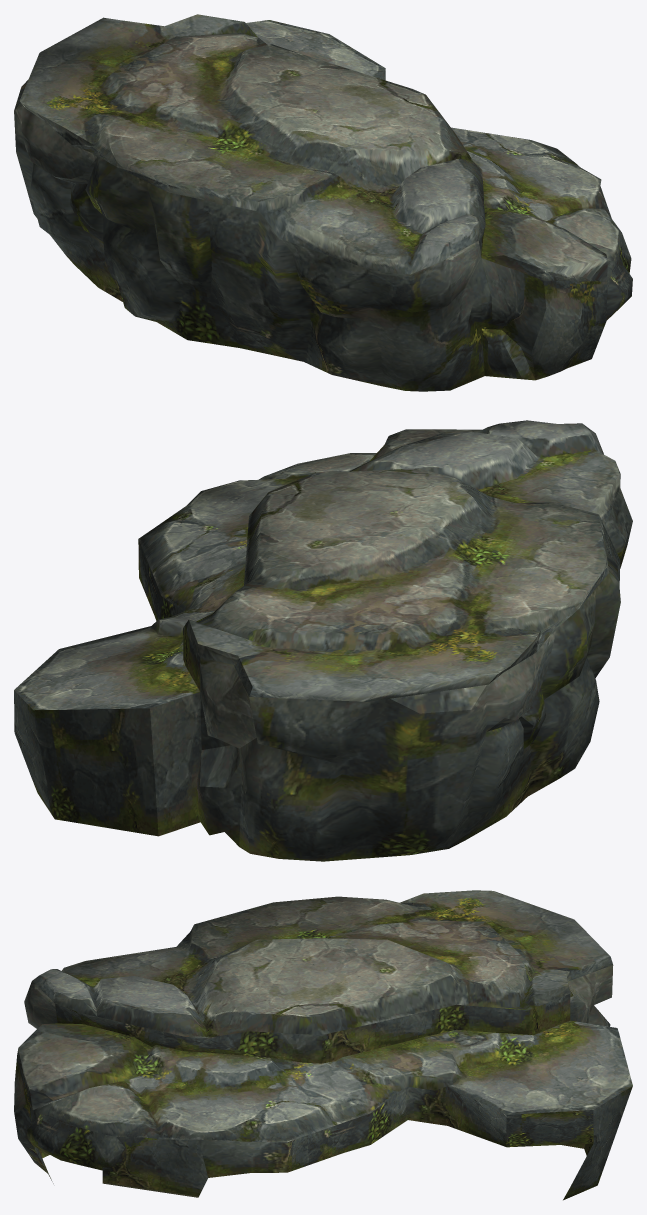
Rendered from 4007_Item_shitou_6.FBX.
3 views of the same model, one above another, from view 1: azimuth 30°, elevation 25°; view 2: azimuth 150°, elevation 25°; view 3: azimuth 270°, elevation 25° (orthographic). The views are drawn at different scales.
Visible parts, largest first — view 1: 4007_Item_shitou_6; view 2: 4007_Item_shitou_6; view 3: 4007_Item_shitou_6.
Boxes of the visible parts, x1=… form: 4007_Item_shitou_6: x1=14, y1=14, x2=632, y2=391; 4007_Item_shitou_6: x1=14, y1=420, x2=632, y2=861; 4007_Item_shitou_6: x1=14, y1=890, x2=632, y2=1200.
Size of the model in its own units: 279 by 116 by 381.
